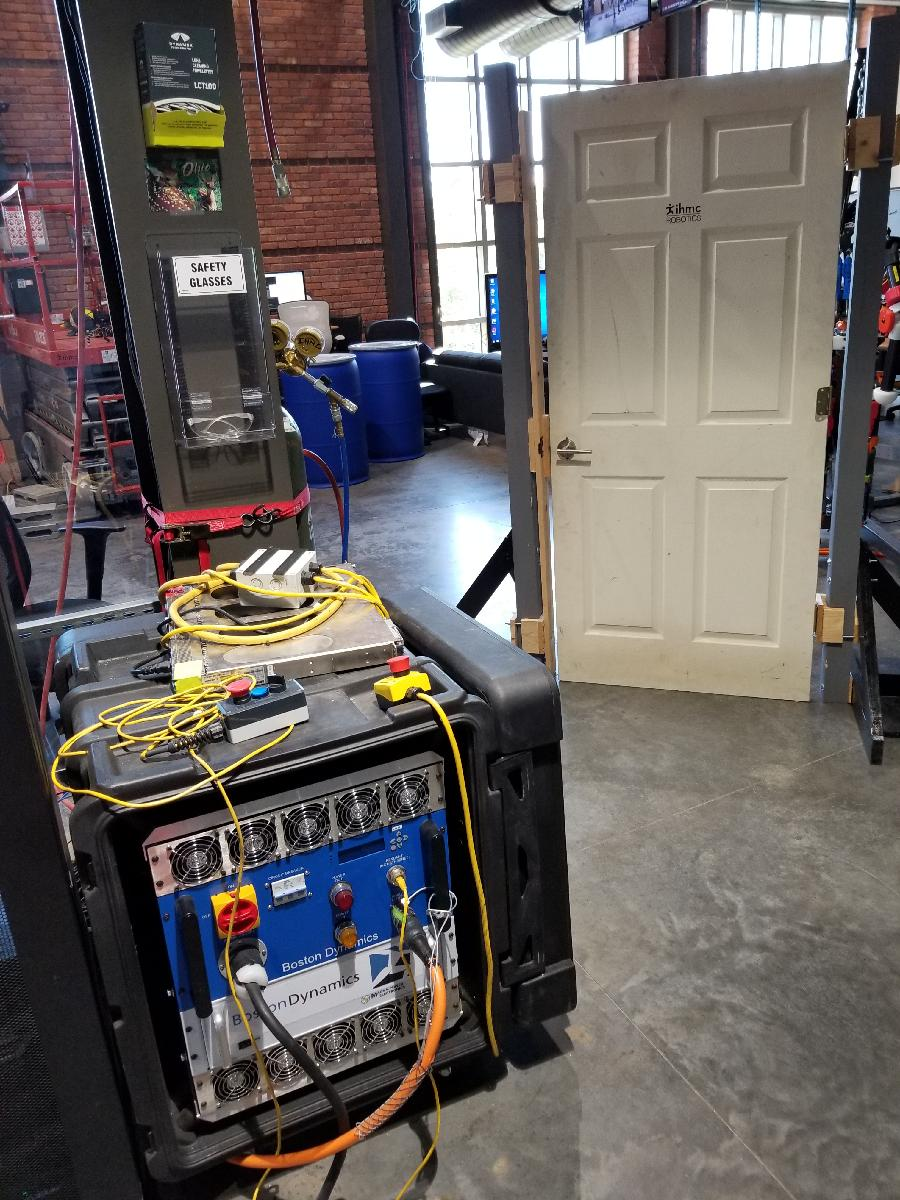door: (536, 61, 852, 704)
doorHandle: (554, 437, 594, 466)
